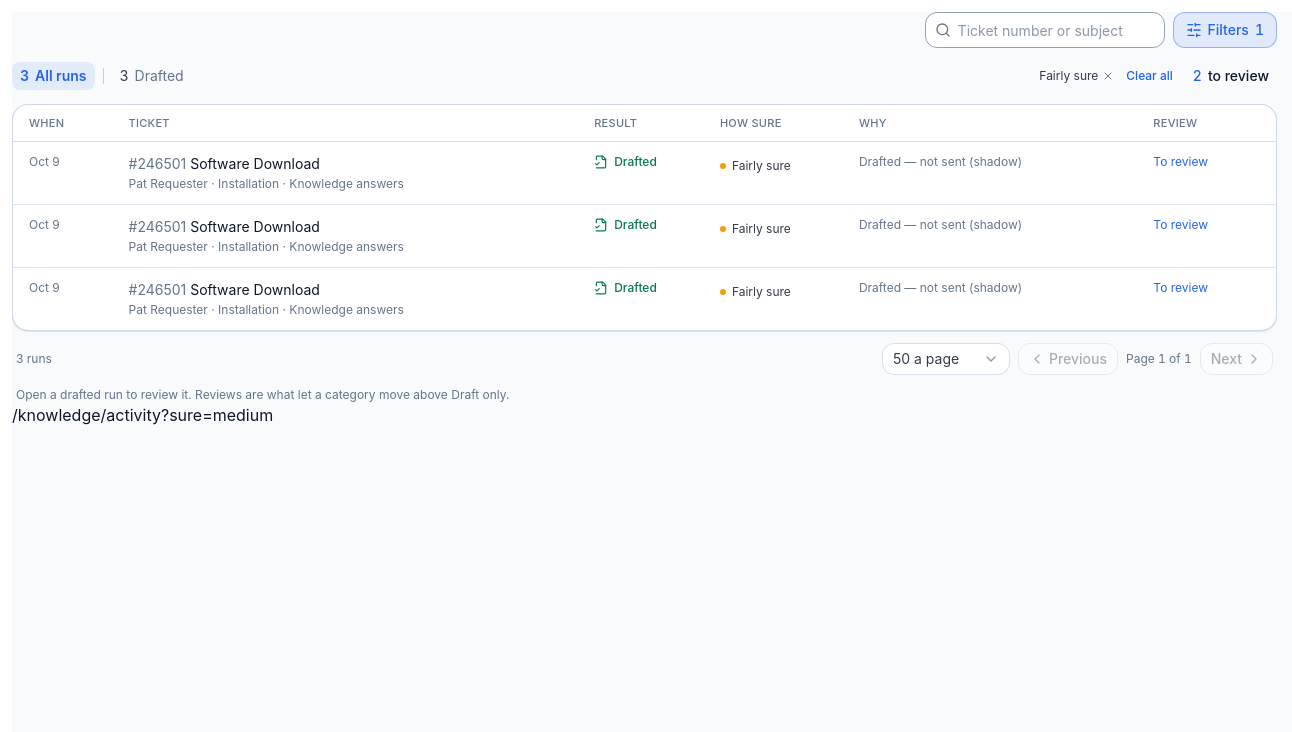
Scenario: a run on its own page › opening a row lands on the page: the request, the answer, the team reply, why it was rated, and the place in the list
Click the row named "Run on #246501": (644, 236) [13,204,1276,268]
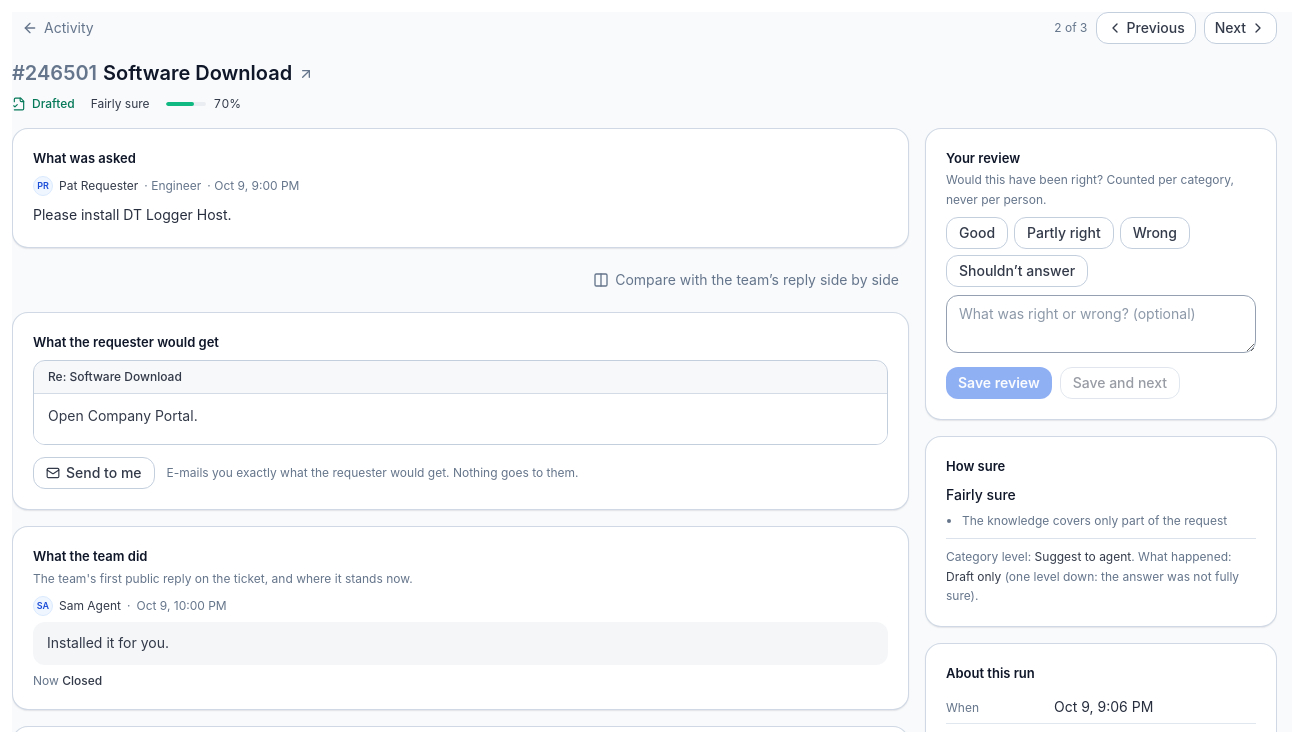
expect the element with test id "run-request" shows "Please install DT Logger Host.": met, box [33,206,232,223]
expect the element with test id "run-answer" shows "Open Company Portal.": met, box [48,407,198,424]
expect the element with test id "run-team" shows "Installed it for you.": met, box [47,634,169,651]
